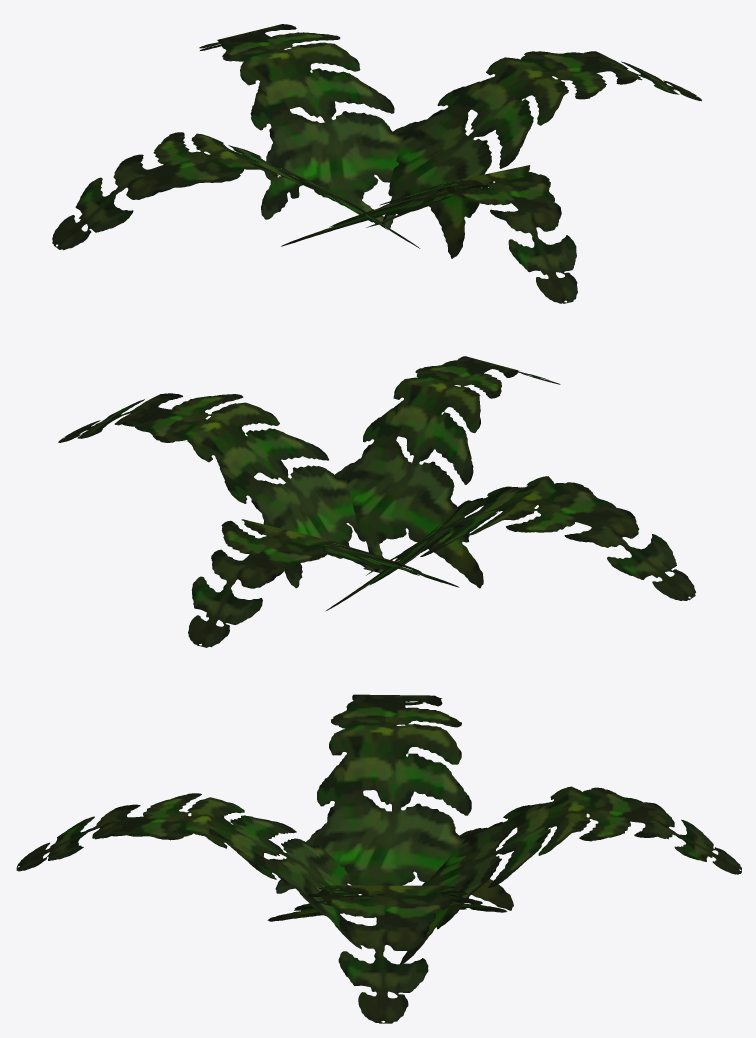
Rendered from fern.fbx.
3 renders of one model, top to bottom at view 1: azimuth 30°, elevation 25°; view 2: azimuth 150°, elevation 25°; view 3: azimuth 270°, elevation 25°, orthographic. The views are drawn at different scales.
Parts seen in each view (by area): view 1: fern; view 2: fern; view 3: fern.
Part boxes in pixels (bbox=[...]): fern: bbox=[52, 24, 701, 303]; fern: bbox=[58, 356, 695, 647]; fern: bbox=[16, 694, 741, 1023].
Bounding box in the file's own units: 328 × 55.02 × 316.
